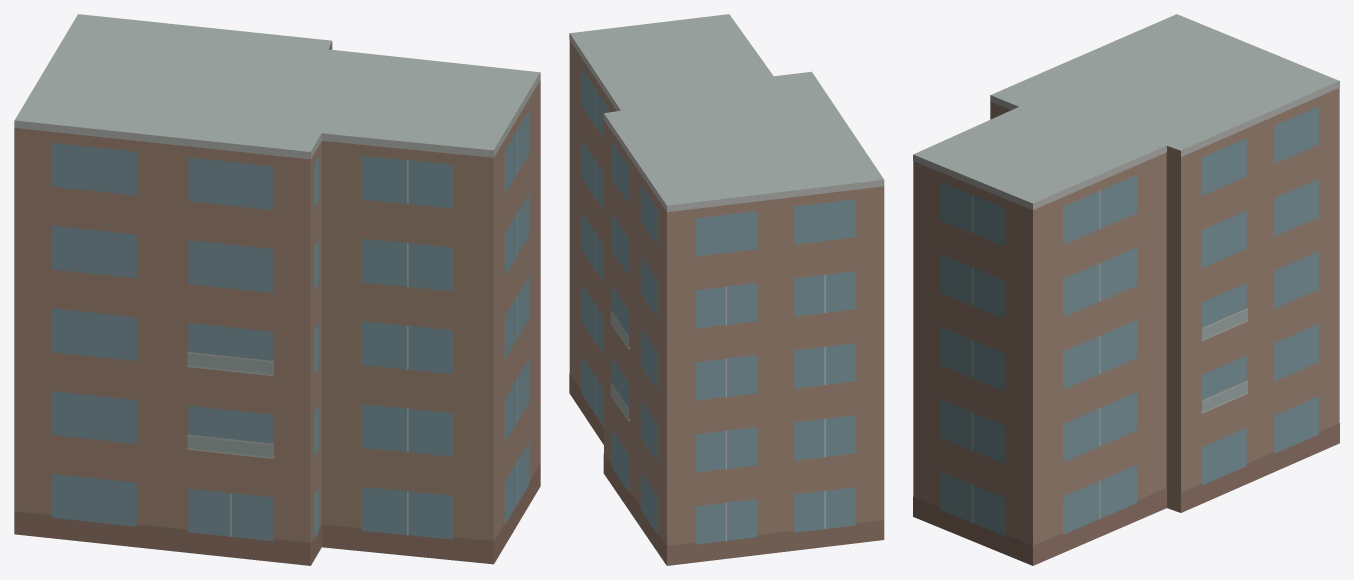
Rendered from survey-upis-32917747.glb.
3 views of the same model, side by side, from view 1: azimuth 30°, elevation 25°; view 2: azimuth 150°, elevation 25°; view 3: azimuth 270°, elevation 25° (orthographic). The views are drawn at different scales.
Parts seen in each view (by area): view 1: survey-upis-32917747.tmp; view 2: survey-upis-32917747.tmp; view 3: survey-upis-32917747.tmp.
Boxes of the visible parts, x1,y1,x2,y2 form: survey-upis-32917747.tmp: (14, 14, 540, 565); survey-upis-32917747.tmp: (569, 14, 884, 565); survey-upis-32917747.tmp: (913, 14, 1339, 565).
Bounding box in the file's own units: 15.16 × 13.5 × 14.42.
